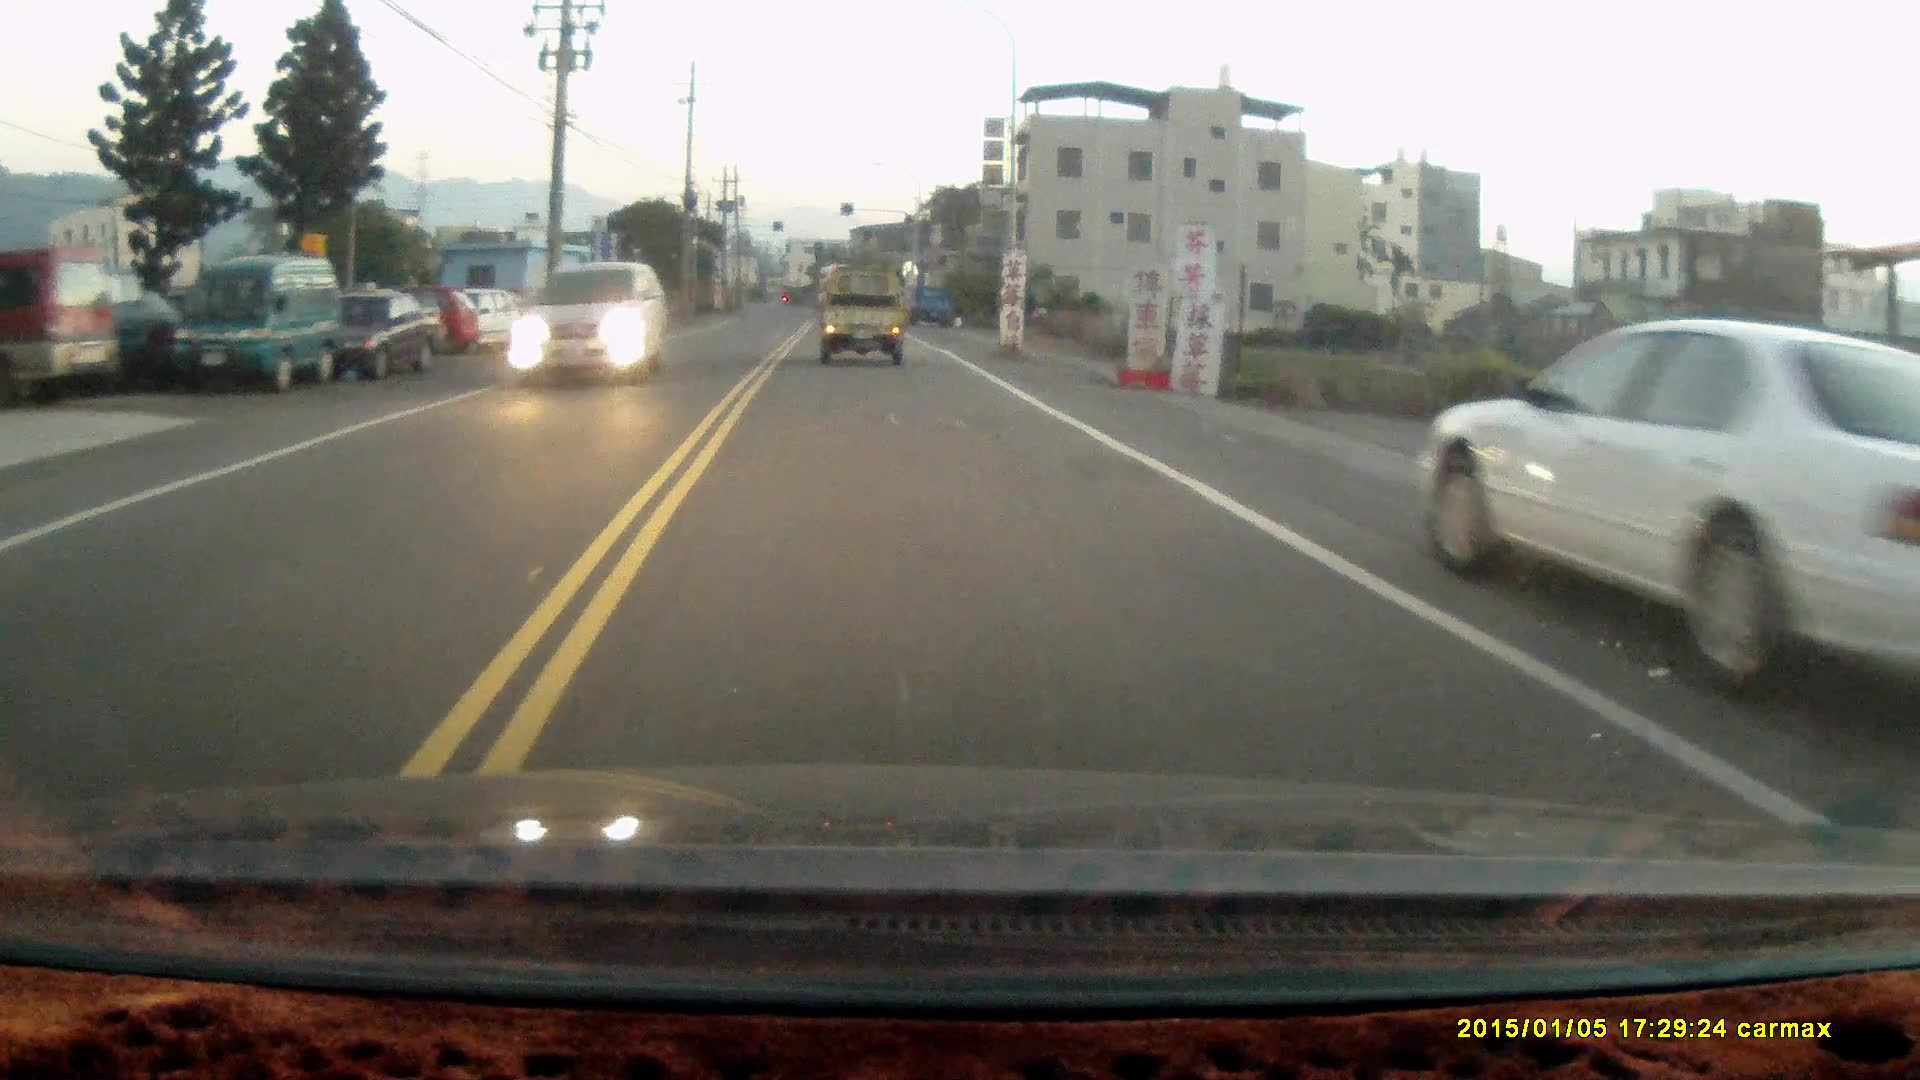vehicle: (1423, 318, 1920, 665), (173, 258, 344, 394), (504, 261, 669, 390), (1, 247, 121, 397), (342, 291, 450, 388), (818, 277, 911, 373)
